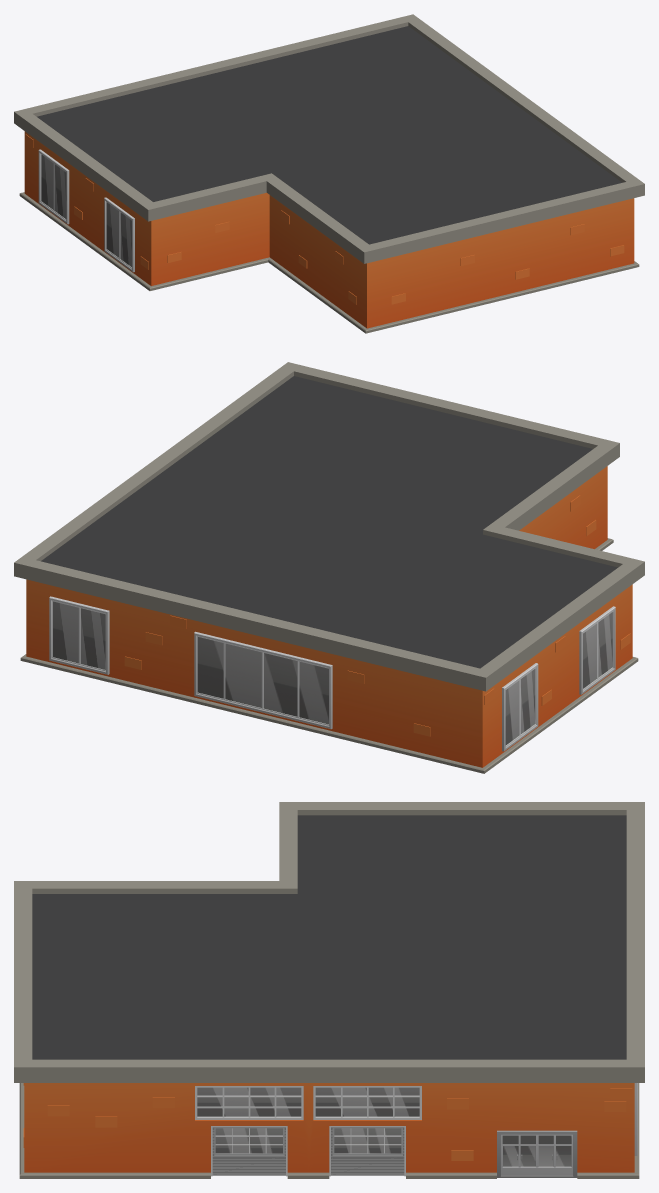
Rendered from Building_22_2_C.glb.
The picture shows the model from 3 angles, top to bottom: view 1: azimuth 30°, elevation 25°; view 2: azimuth 150°, elevation 25°; view 3: azimuth 270°, elevation 25°; orthographic projection. The views are drawn at different scales.
Parts seen in each view (by area): view 1: Building_22_2_C; view 2: Building_22_2_C; view 3: Building_22_2_C.
Part boxes in pixels (bbox=[...]): Building_22_2_C: bbox=[14, 14, 644, 333]; Building_22_2_C: bbox=[14, 362, 644, 773]; Building_22_2_C: bbox=[14, 802, 644, 1178].
Bounding box in the file's own units: 31.08 × 6.22 × 31.25.
3 materials, 3 textured.
